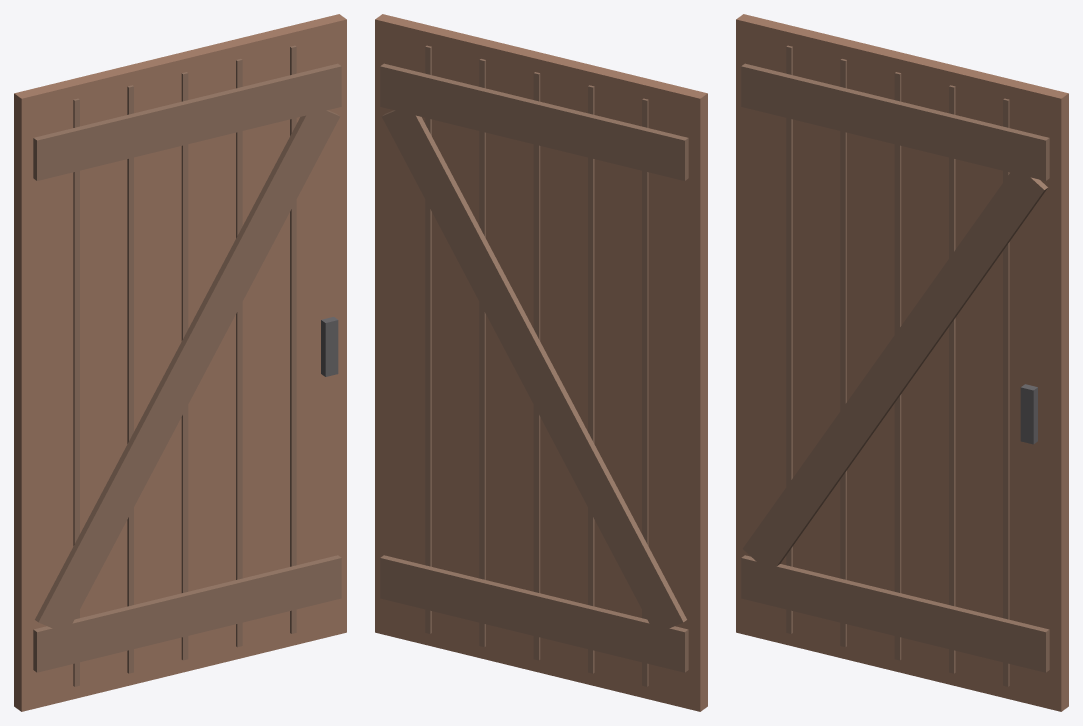
The model's file is garage_door_leaf.glb.
The picture shows the model from 3 angles, left to right: view 1: azimuth 30°, elevation 25°; view 2: azimuth 150°, elevation 25°; view 3: azimuth 330°, elevation 25°; orthographic projection.
Parts seen in each view (by area): view 1: garage_door_leaf_door_wood, garage_door_leaf_timber, garage_door_leaf_iron; view 2: garage_door_leaf_door_wood, garage_door_leaf_timber; view 3: garage_door_leaf_door_wood, garage_door_leaf_timber, garage_door_leaf_iron.
Boxes of the visible parts, x1,y1,x2,y2 form: garage_door_leaf_door_wood: [14, 14, 346, 711]; garage_door_leaf_timber: [33, 45, 341, 686]; garage_door_leaf_iron: [321, 317, 338, 376]; garage_door_leaf_door_wood: [375, 14, 707, 711]; garage_door_leaf_timber: [380, 45, 688, 686]; garage_door_leaf_door_wood: [736, 14, 1068, 711]; garage_door_leaf_timber: [741, 45, 1049, 686]; garage_door_leaf_iron: [1020, 384, 1037, 444].
Size of the model in its own units: 1.26 by 2.27 by 0.15.
